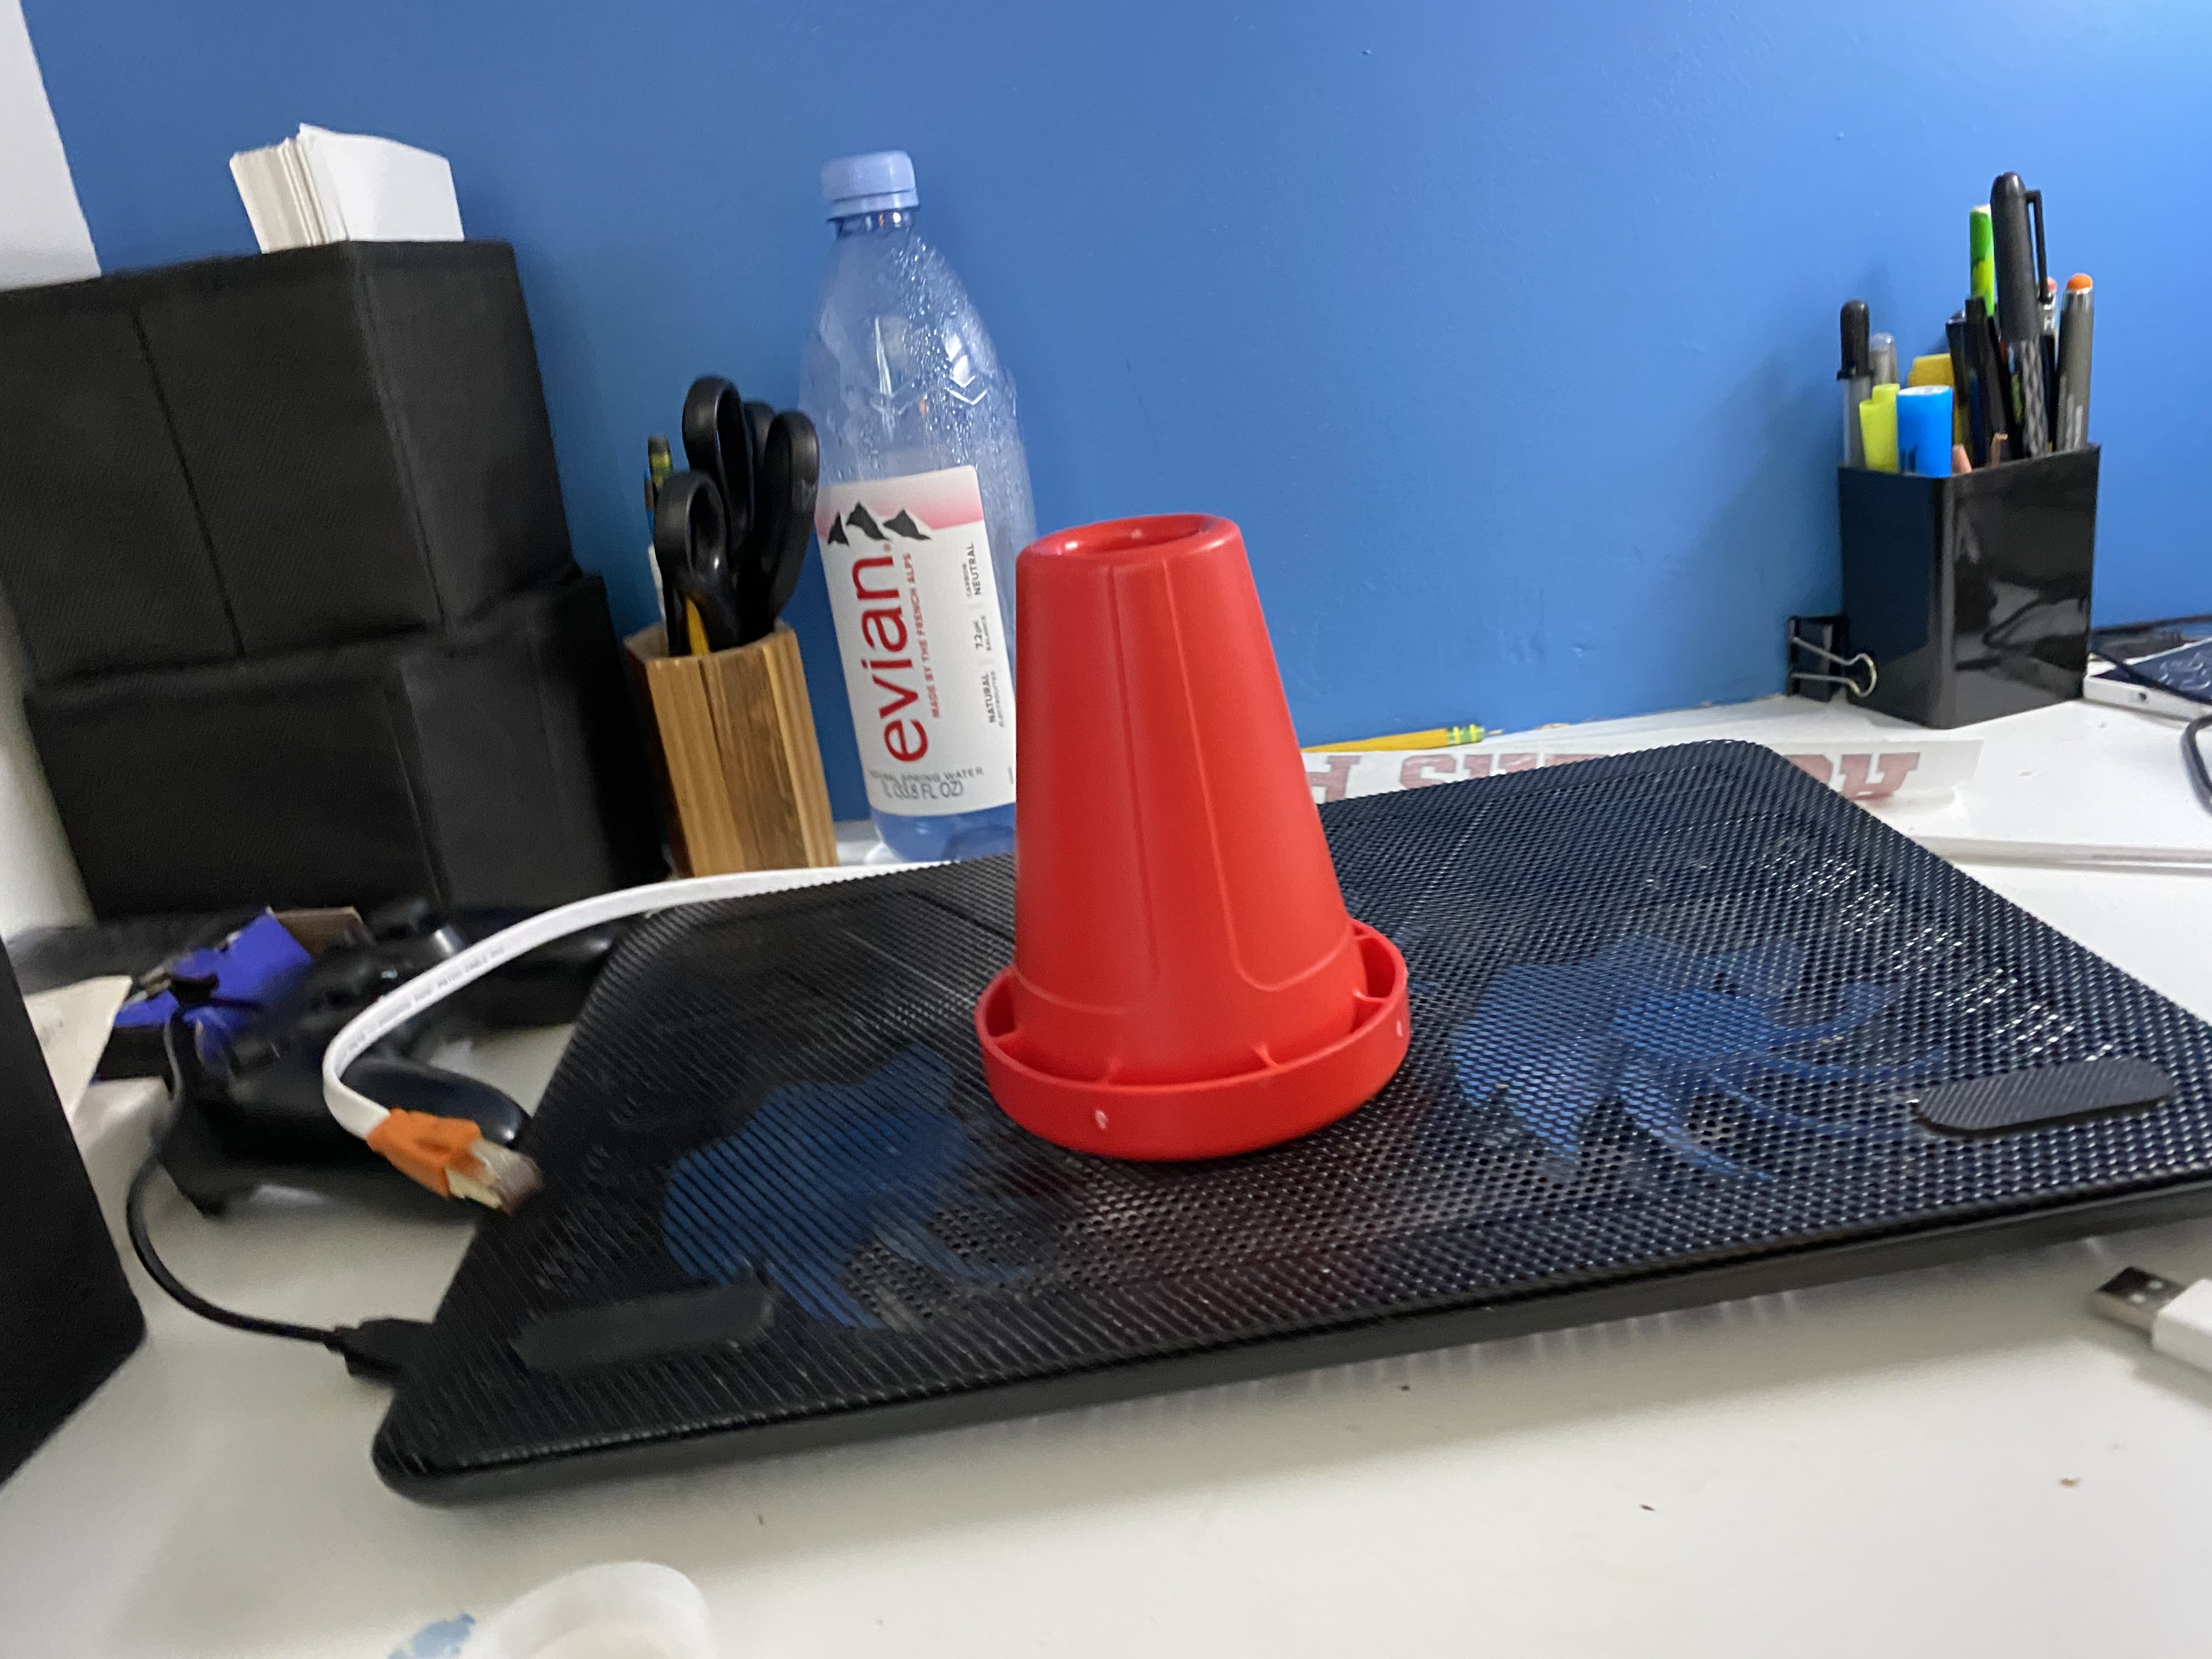redCone: (970, 505, 1421, 1169)
